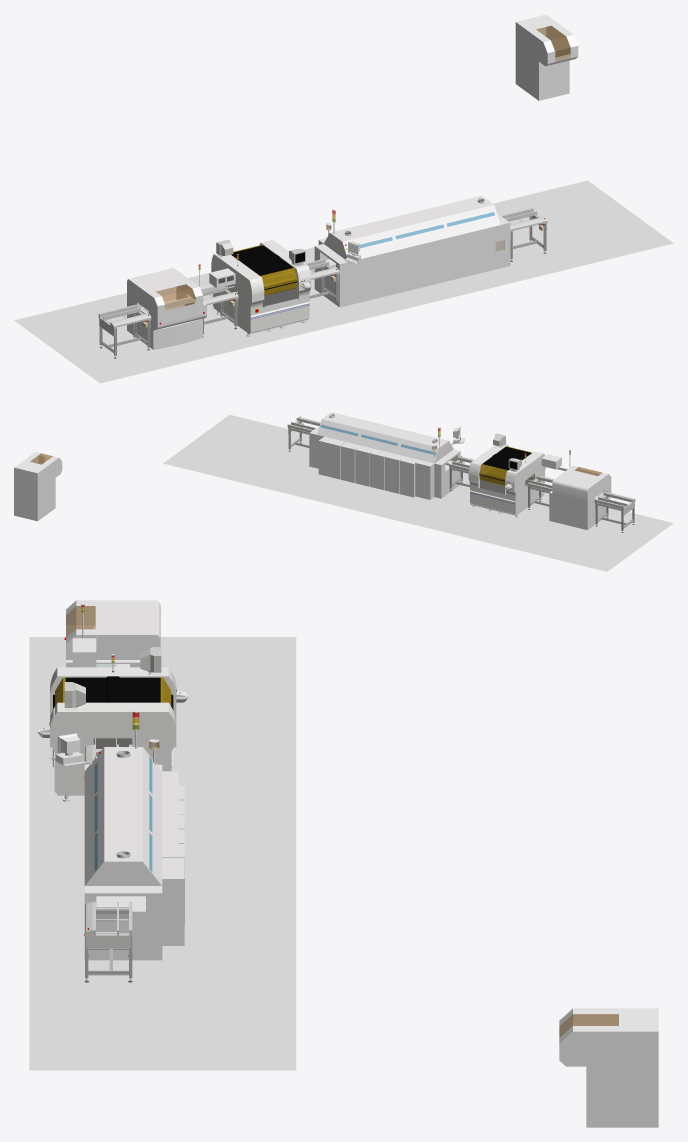
Rendered from mfg_line.glb.
3 views of the same model, one above another, from view 1: azimuth 30°, elevation 25°; view 2: azimuth 150°, elevation 25°; view 3: azimuth 270°, elevation 25° (orthographic). The views are drawn at different scales.
Visible parts, largest first — view 1: Material2 (×4), Material3; view 2: Material2 (×4), Material3; view 3: Material2 (×4), Material3.
Part boxes in pixels (x1,y1,x2,y2): Material2 (×4): (14, 14, 673, 383); Material3: (156, 26, 570, 310); Material2 (×4): (14, 412, 673, 571); Material3: (30, 428, 602, 485); Material2 (×4): (29, 600, 658, 1127); Material3: (55, 605, 618, 1037).
Size of the model in its own units: 679 by 83.06 by 368.
Materials: 7 (7 with a texture image).
